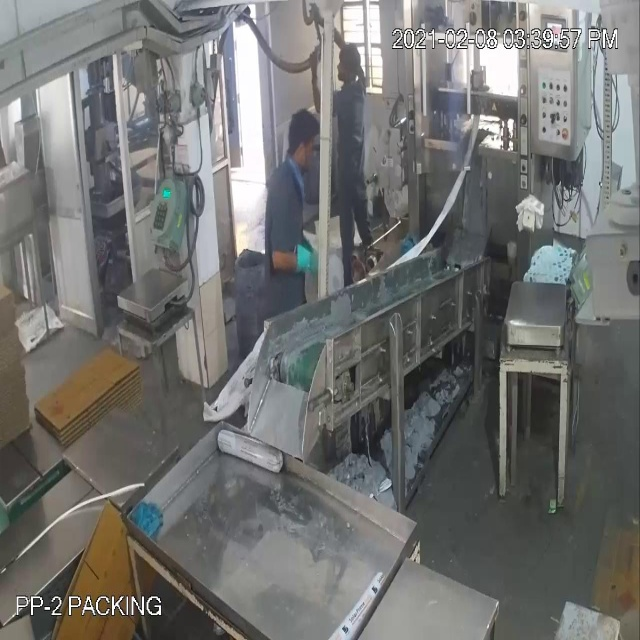Guantes: (282, 235, 323, 286)
